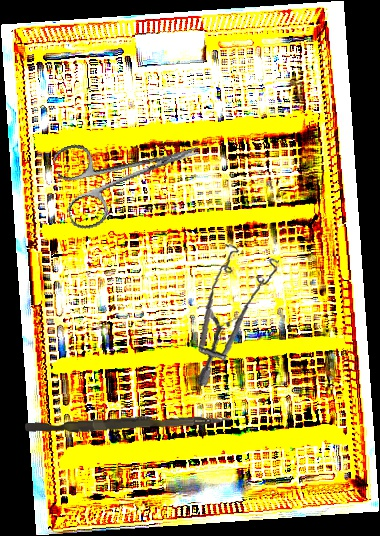Iris Scissors: (51, 112, 211, 233)
Pusher: (24, 408, 233, 438)
Speculum: (183, 238, 292, 387)
